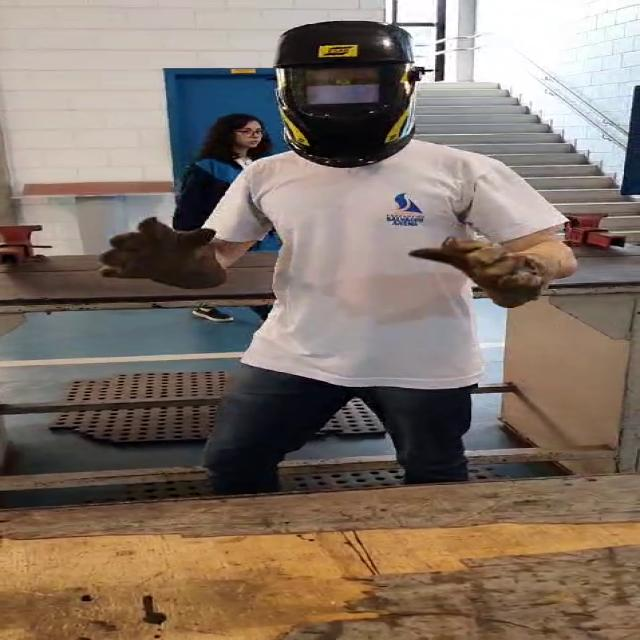sem_oculos: (236, 126, 267, 138)
